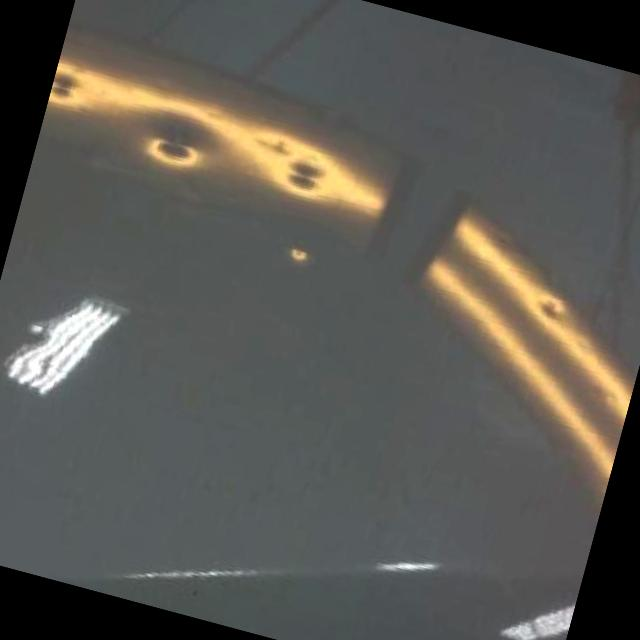dent: (143, 132, 202, 172), (282, 153, 330, 200), (47, 69, 81, 109), (250, 132, 291, 158), (532, 296, 562, 322), (288, 242, 308, 263)
